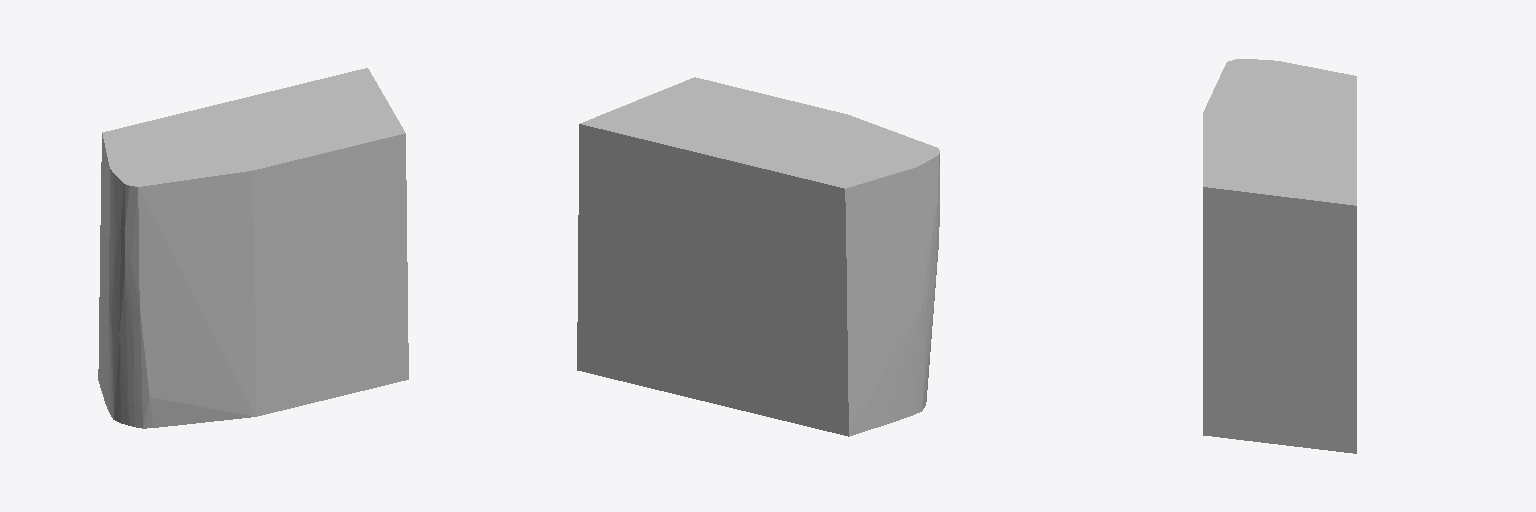
The model's file is box_long_brown_M_collision_11.obj.
3 renders of one model, left to right at view 1: azimuth 30°, elevation 25°; view 2: azimuth 150°, elevation 25°; view 3: azimuth 270°, elevation 25°, orthographic.
Bounding box in the file's own units: 0.0413 × 0.032 × 0.018.